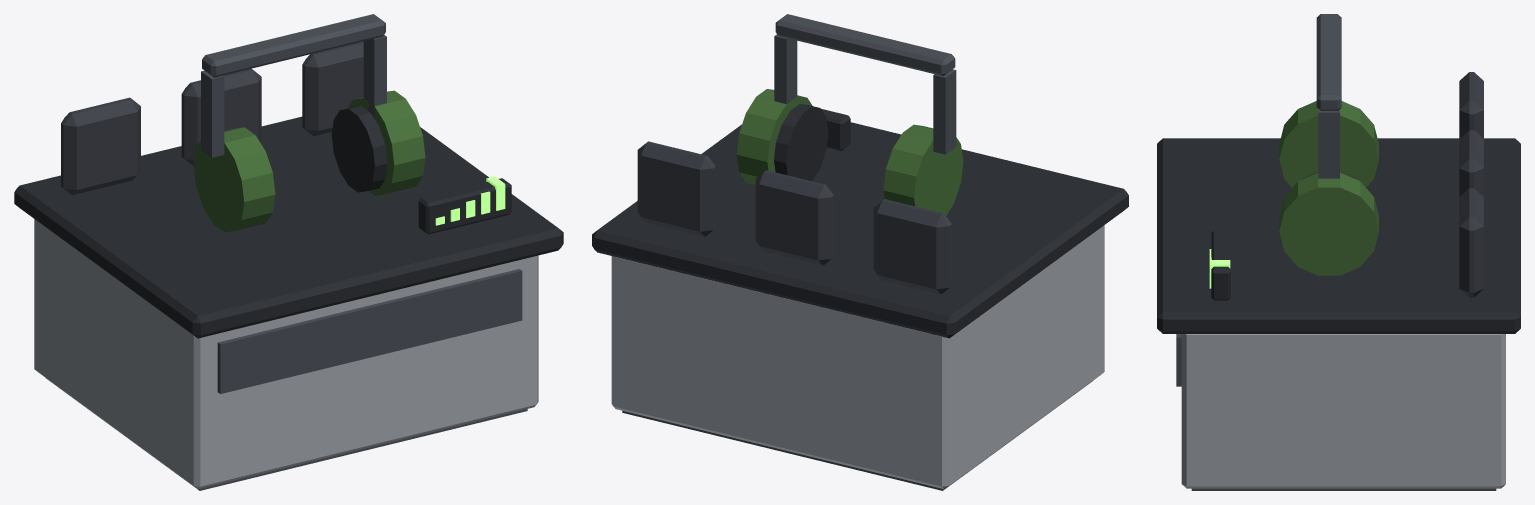
File: headphones_3.glb
The picture shows the model from 3 angles, left to right: view 1: azimuth 30°, elevation 25°; view 2: azimuth 150°, elevation 25°; view 3: azimuth 270°, elevation 25°; orthographic projection. The views are drawn at different scales.
Parts seen in each view (by area): view 1: headphones_3_mesh_Desk, headphones_3_mesh; view 2: headphones_3_mesh_Desk, headphones_3_mesh; view 3: headphones_3_mesh_Desk, headphones_3_mesh.
Boxes of the visible parts, x1,y1,x2,y2 form: headphones_3_mesh_Desk: [14, 116, 563, 490]; headphones_3_mesh: [61, 14, 511, 234]; headphones_3_mesh_Desk: [592, 122, 1128, 490]; headphones_3_mesh: [637, 14, 963, 294]; headphones_3_mesh_Desk: [1157, 138, 1520, 490]; headphones_3_mesh: [1209, 14, 1483, 300].
Bounding box in the file's own units: 0.86 × 0.8027 × 0.74.
